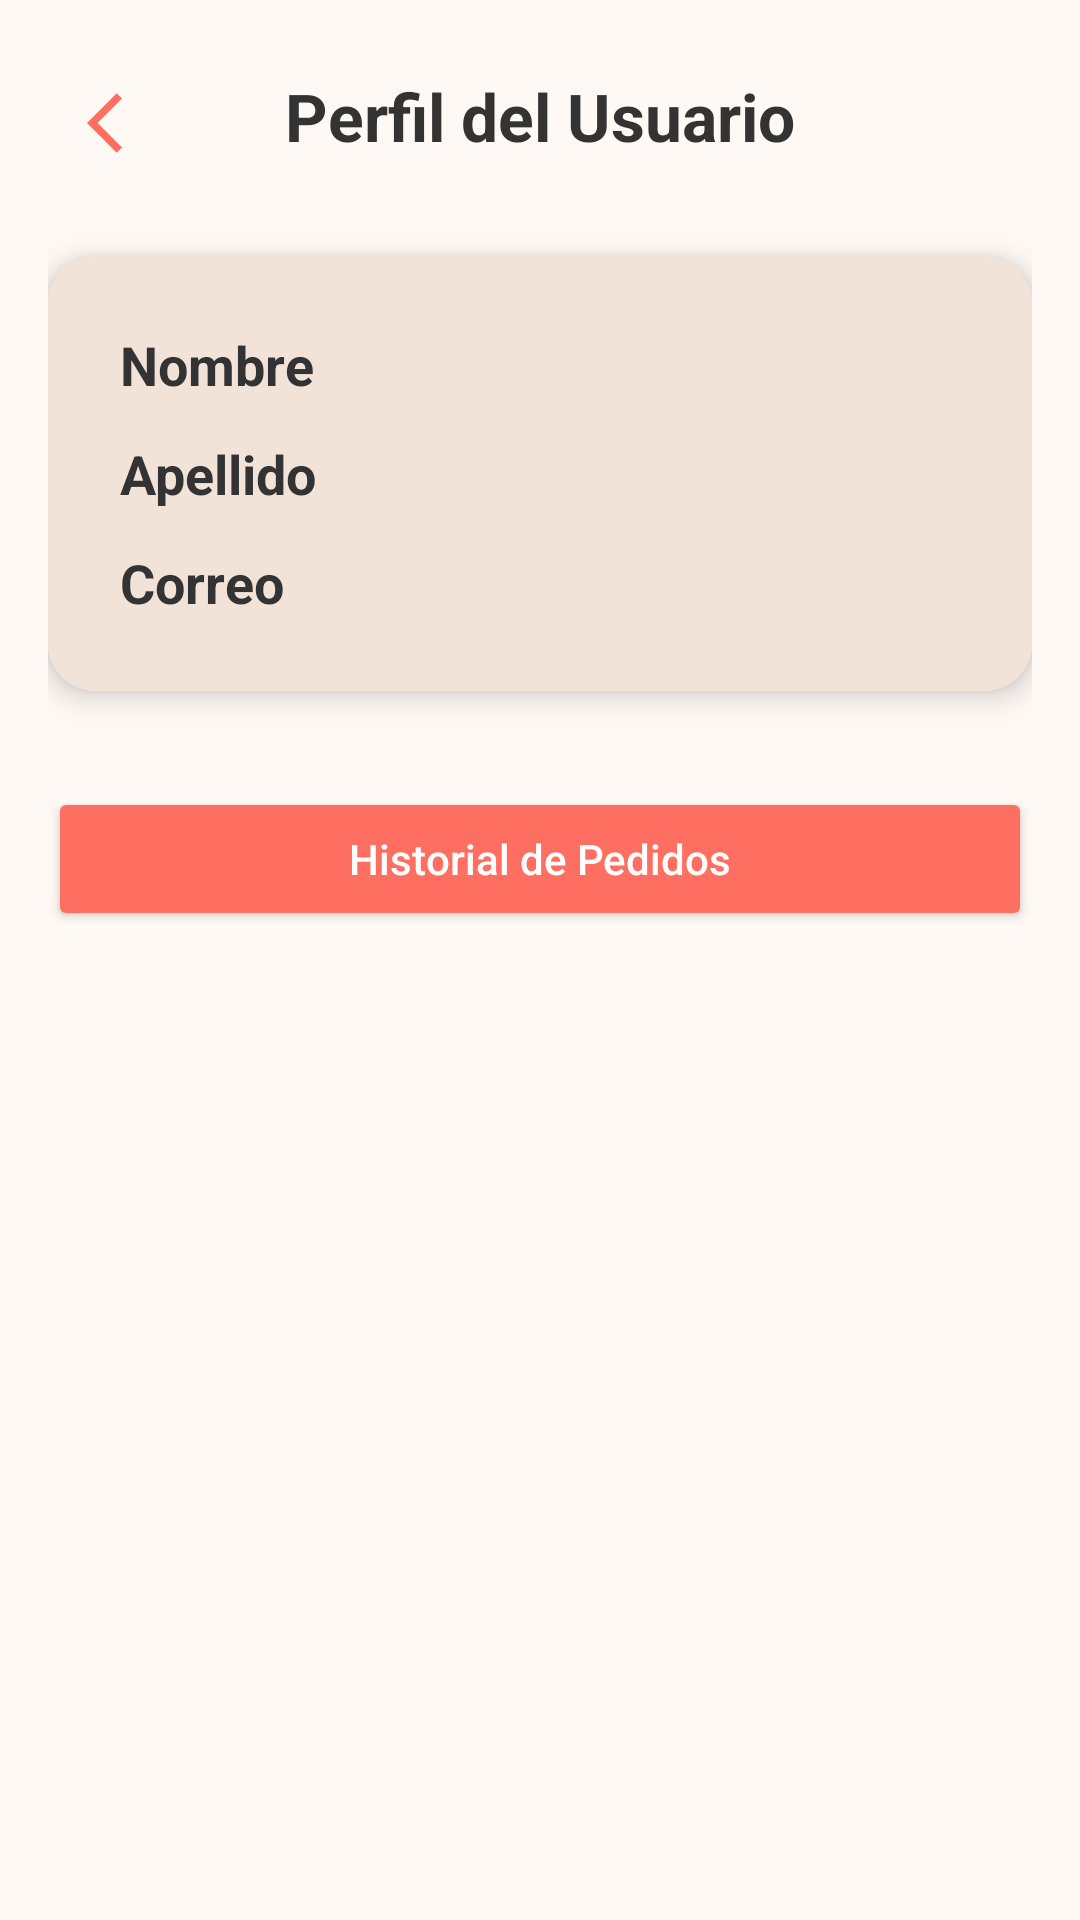

Screen size 1080×1920. Icon name, then its center in pixels as point (x, y):
Botón atrás: point (104, 123)
